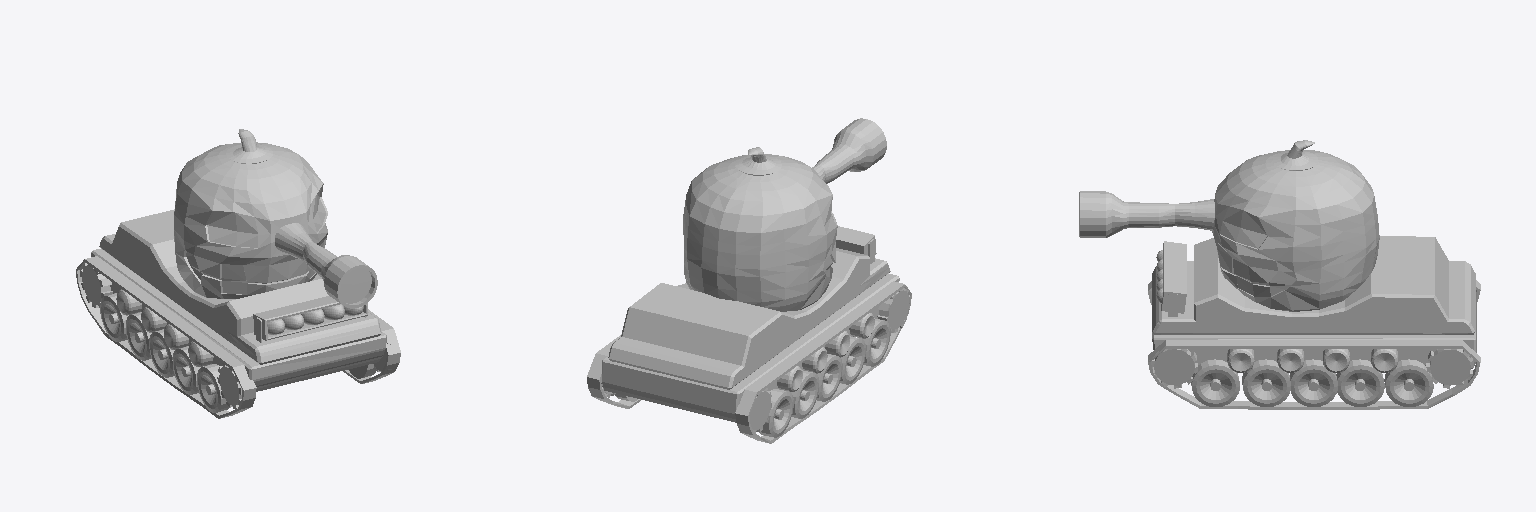
File: Pumpkin Tank upgrade3.obj
The picture shows the model from 3 angles: view 1: azimuth 30°, elevation 25°; view 2: azimuth 150°, elevation 25°; view 3: azimuth 270°, elevation 25°; orthographic projection.
Parts seen in each view (by area): view 1: pCylinder3_pCylinder3, pCube2, pCube1, pCube4, pCube5, pCylinder16, pCylinder4, pCylinder17, pCylinder8, pCylinder15, pCylinder18, pCylinder10; view 2: pCylinder3_pCylinder3, pCube2, pCube1, pCube4, pCylinder16, pCylinder17, pCylinder10, pCylinder15, pCylinder8, pCylinder18, pCube5, pCylinder4; view 3: pCylinder3_pCylinder3, pCube2, pCube4, pCube1, pCylinder17, pCylinder16, pCylinder15, pCylinder8, pCylinder14, pCube5, pCylinder10, pCylinder4 (+4 smaller).
Boxes of the visible parts, x1=… form: pCylinder3_pCylinder3: x1=174, y1=129, x2=377, y2=308; pCube2: x1=99, y1=209, x2=381, y2=364; pCube1: x1=91, y1=249, x2=386, y2=391; pCube4: x1=76, y1=256, x2=400, y2=418; pCube5: x1=253, y1=296, x2=367, y2=340; pCylinder16: x1=100, y1=293, x2=375, y2=378; pCylinder4: x1=80, y1=263, x2=396, y2=371; pCylinder17: x1=197, y1=364, x2=229, y2=412; pCylinder8: x1=172, y1=346, x2=203, y2=394; pCylinder15: x1=126, y1=312, x2=151, y2=360; pCylinder18: x1=149, y1=329, x2=174, y2=377; pCylinder10: x1=217, y1=363, x2=241, y2=408; pCylinder3_pCylinder3: x1=683, y1=118, x2=886, y2=311; pCube2: x1=608, y1=248, x2=890, y2=389; pCube1: x1=602, y1=273, x2=899, y2=422; pCube4: x1=587, y1=281, x2=911, y2=443; pCylinder16: x1=759, y1=389, x2=793, y2=437; pCylinder17: x1=615, y1=318, x2=890, y2=401; pCylinder10: x1=601, y1=288, x2=910, y2=397; pCylinder15: x1=791, y1=370, x2=818, y2=418; pCylinder8: x1=840, y1=336, x2=865, y2=384; pCylinder18: x1=817, y1=354, x2=842, y2=401; pCube5: x1=836, y1=226, x2=876, y2=254; pCylinder4: x1=749, y1=388, x2=771, y2=433; pCylinder3_pCylinder3: x1=1079, y1=140, x2=1379, y2=311; pCube2: x1=1152, y1=236, x2=1475, y2=334; pCube4: x1=1148, y1=280, x2=1480, y2=409; pCube1: x1=1152, y1=292, x2=1476, y2=368; pCylinder17: x1=1384, y1=359, x2=1433, y2=406; pCylinder16: x1=1191, y1=359, x2=1239, y2=406; pCylinder15: x1=1242, y1=359, x2=1290, y2=406; pCylinder8: x1=1336, y1=359, x2=1384, y2=406; pCylinder14: x1=1290, y1=359, x2=1337, y2=406; pCube5: x1=1161, y1=241, x2=1186, y2=313; pCylinder10: x1=1426, y1=349, x2=1473, y2=388; pCylinder4: x1=1151, y1=346, x2=1197, y2=388.
Bounding box in the file's own units: 6.27 × 8.45 × 13.3.